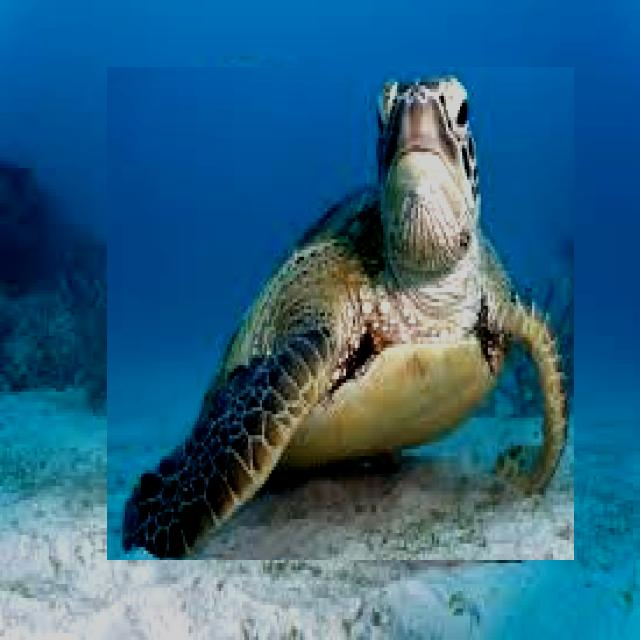Sea turtle: (107, 68, 574, 562)
